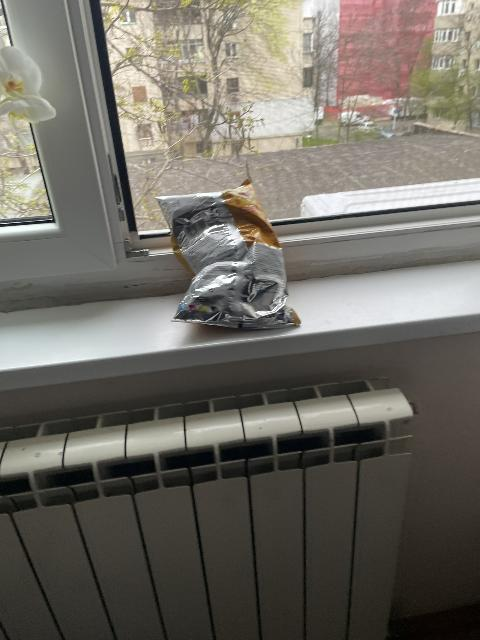Chio Hula Hoops Cheese 70g: (155, 175, 301, 326)
